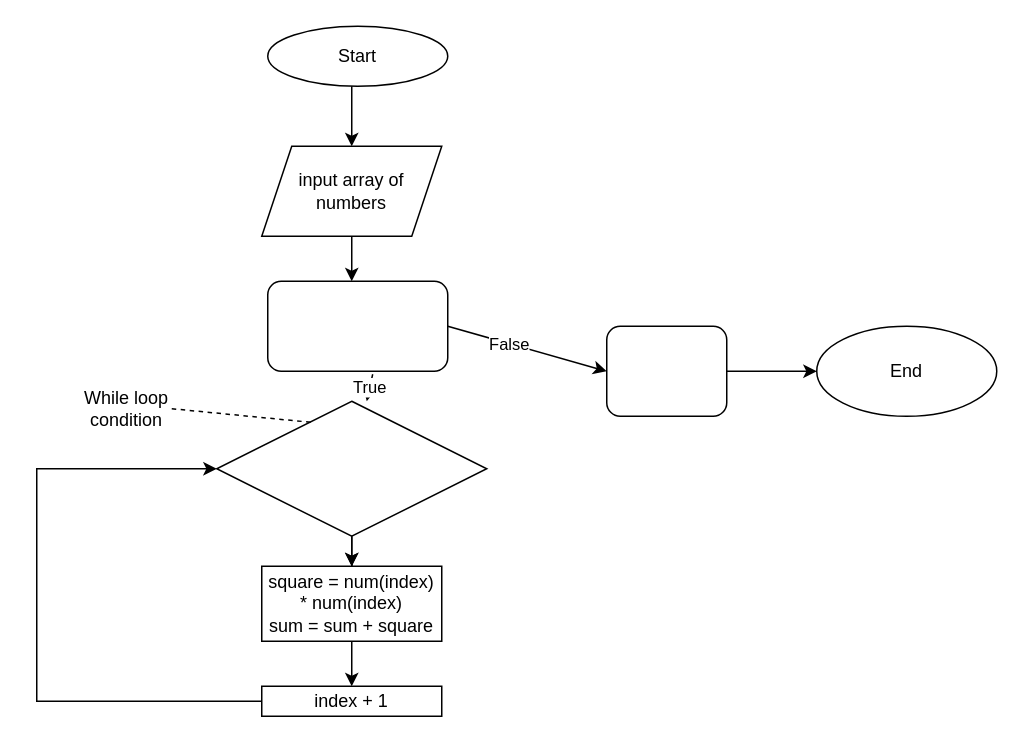
This 1023x743 diagram has some shape labels left out. The centre of each missing label's shape, as x and y in pixels:
Initialize int index, int sum equal to 0: [357,325]
is index less than length of numbers?: [351,468]
Print sum: [666,370]
